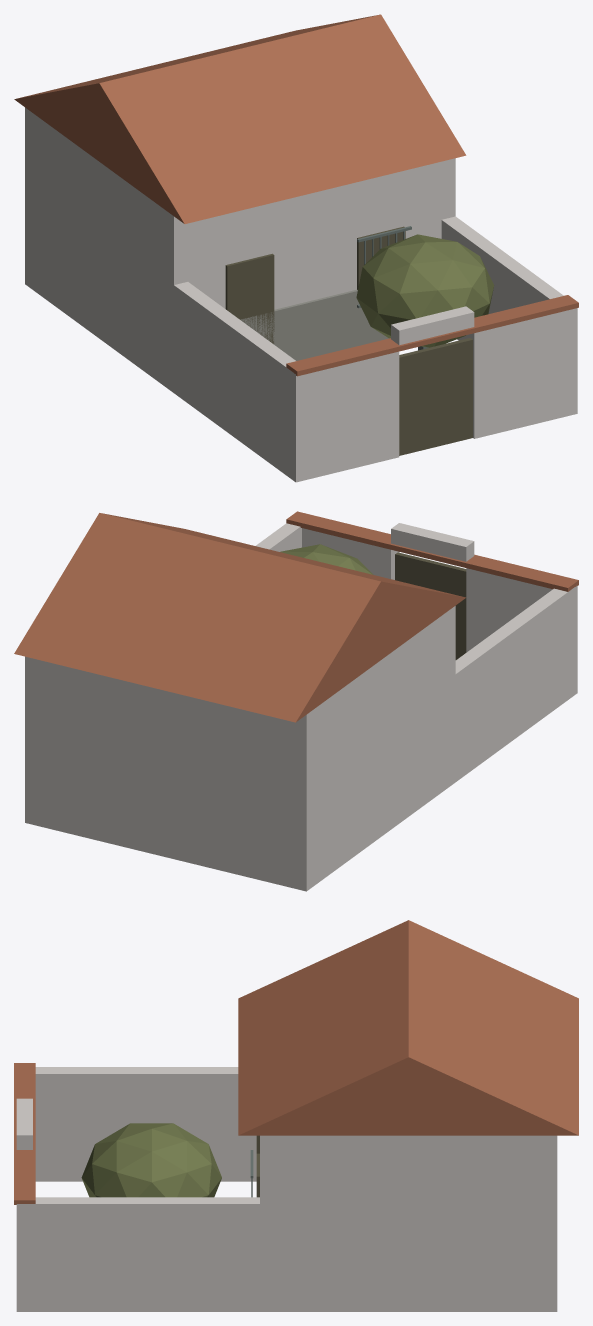
Rendered from SM_CasaPatio_v3_Naranjo_LOD0.fbx.
The picture shows the model from 3 angles, top to bottom: view 1: azimuth 30°, elevation 25°; view 2: azimuth 150°, elevation 25°; view 3: azimuth 270°, elevation 25°; orthographic projection.
Visible parts, largest first — view 1: SM_pueblo_valenciano_v18_LOD0; view 2: SM_pueblo_valenciano_v18_LOD0; view 3: SM_pueblo_valenciano_v18_LOD0.
Part boxes in pixels (left/top/right/bottom): SM_pueblo_valenciano_v18_LOD0: left=14, top=14, right=578, bottom=482; SM_pueblo_valenciano_v18_LOD0: left=14, top=511, right=578, bottom=891; SM_pueblo_valenciano_v18_LOD0: left=14, top=920, right=578, bottom=1311.
Bounding box in the file's own units: 6 × 5.2 × 10.45.
